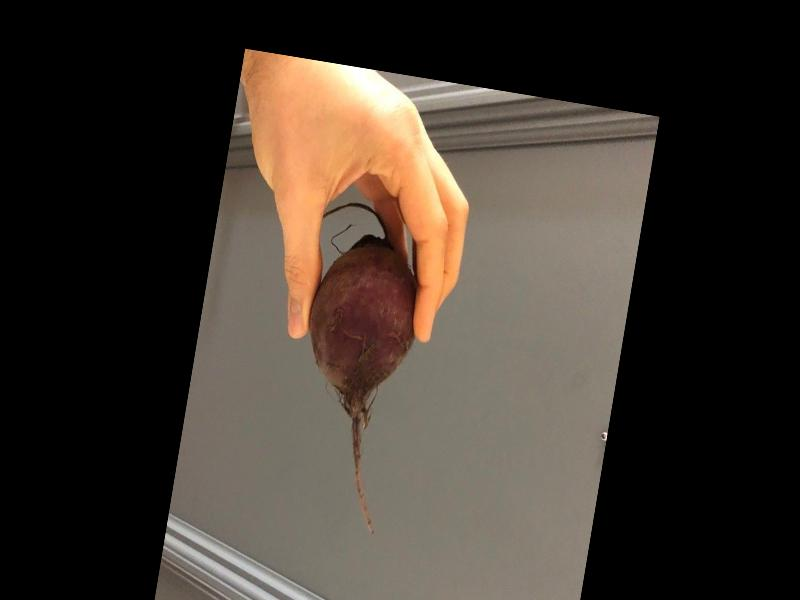Beet: (273, 199, 431, 541)
